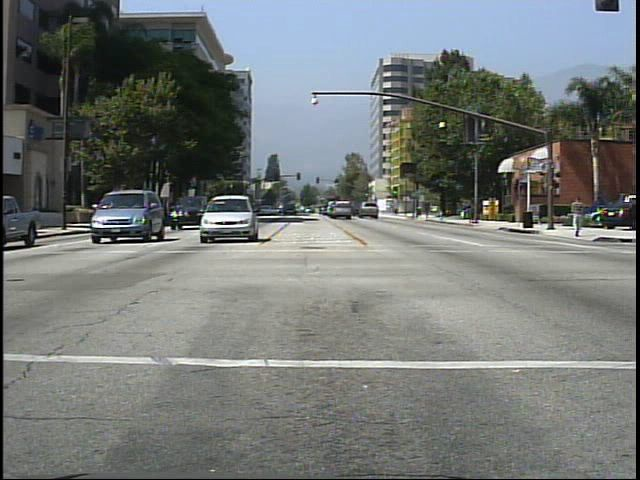person: (570, 193, 589, 241)
